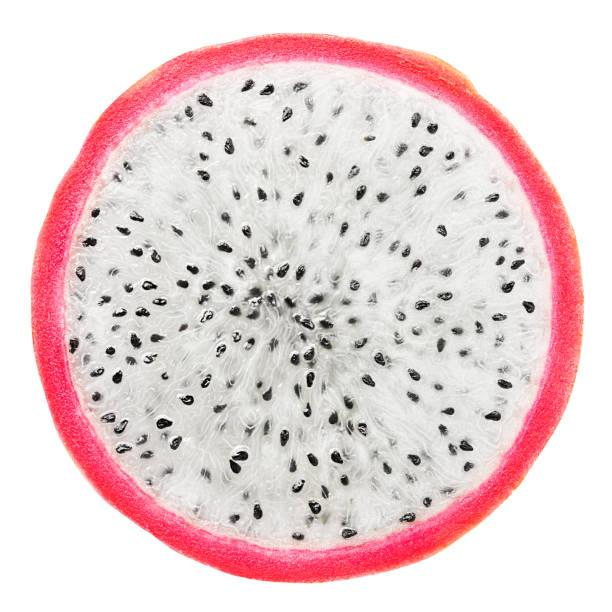dragon fruit: (21, 28, 596, 594)
